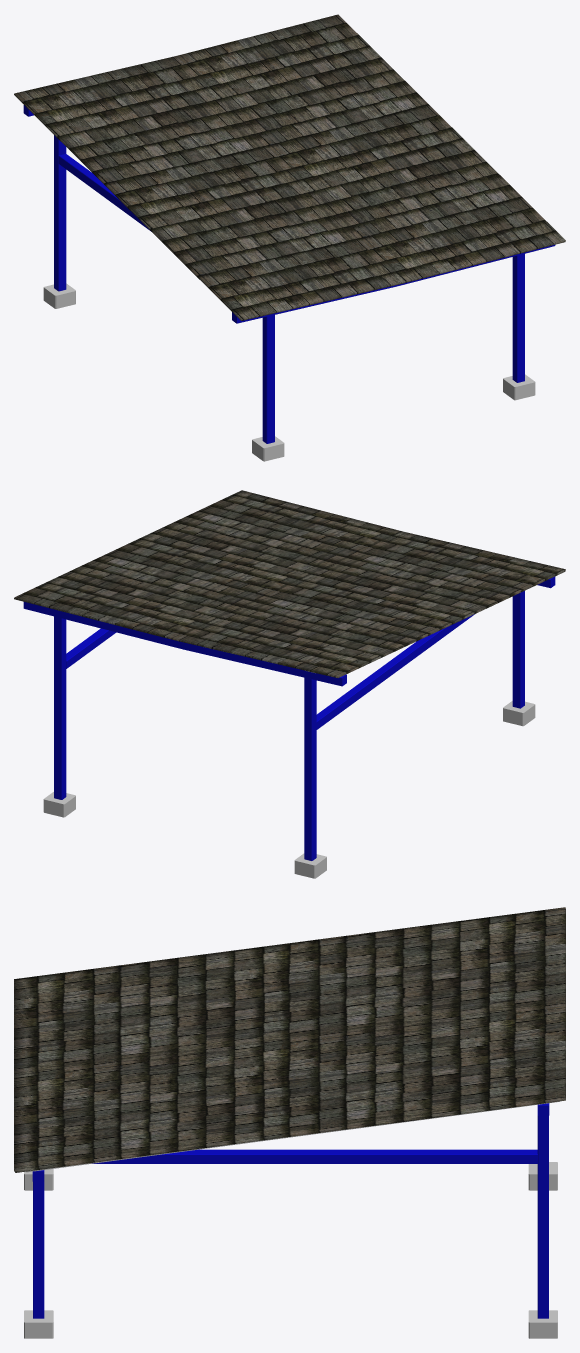
File: Shed.FBX
The picture shows the model from 3 angles, top to bottom: view 1: azimuth 30°, elevation 25°; view 2: azimuth 150°, elevation 25°; view 3: azimuth 270°, elevation 25°; orthographic projection. The views are drawn at different scales.
Parts seen in each view (by area): view 1: Shed; view 2: Shed; view 3: Shed.
Boxes of the visible parts, bbox=[...] form: Shed: bbox=[14, 14, 565, 461]; Shed: bbox=[14, 490, 565, 878]; Shed: bbox=[14, 907, 565, 1338].
Size of the model in its own units: 613 by 382 by 747.
